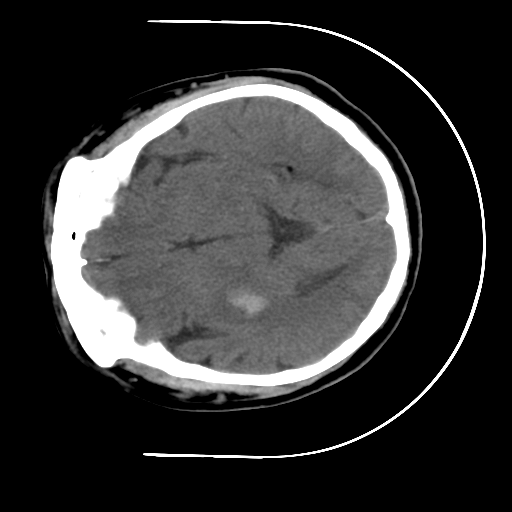a: (197, 267, 285, 337)
